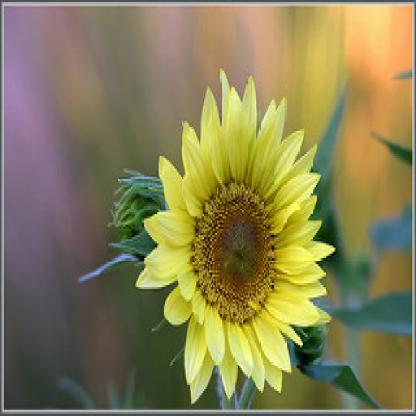SUN FLOWER: (114, 38, 360, 413)
